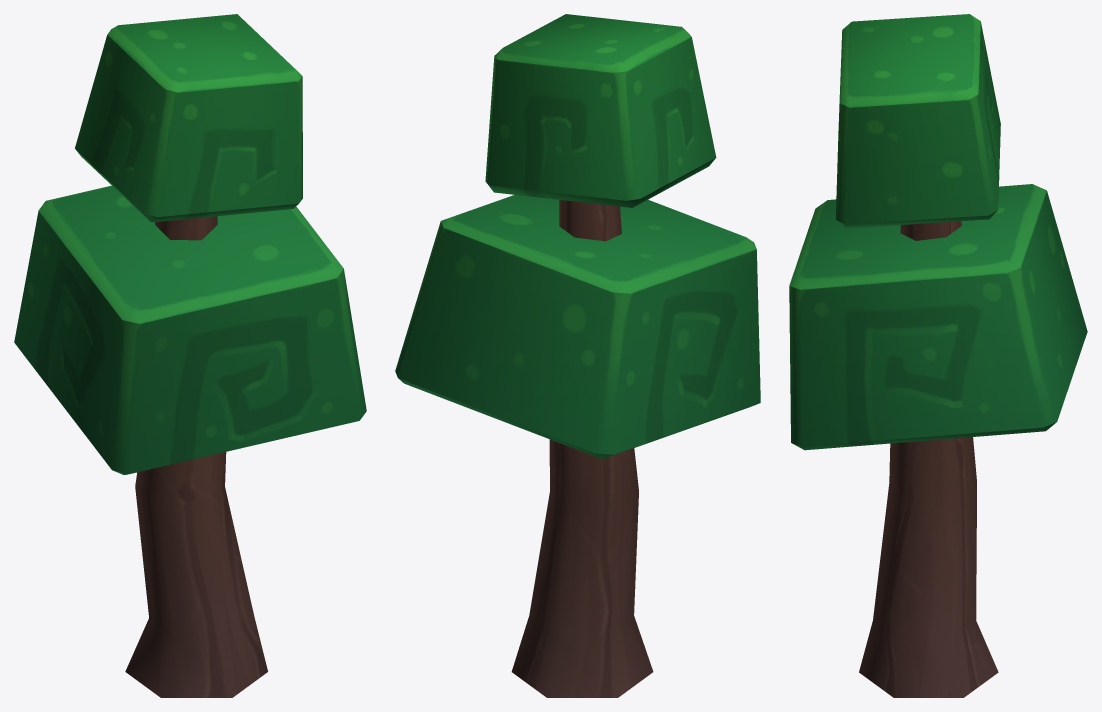
Rendered from forest_tree_04.fbx.
3 renders of one model, left to right at view 1: azimuth 30°, elevation 25°; view 2: azimuth 150°, elevation 25°; view 3: azimuth 270°, elevation 25°, orthographic. The views are drawn at different scales.
Parts seen in each view (by area): view 1: forest_tree_04; view 2: forest_tree_04; view 3: forest_tree_04.
Boxes of the visible parts, left/top/right/bottom form: forest_tree_04: left=14, top=14, right=366, bottom=697; forest_tree_04: left=395, top=14, right=760, bottom=697; forest_tree_04: left=789, top=14, right=1087, bottom=697.
Bounding box in the file's own units: 2.35 × 5.53 × 2.37.
